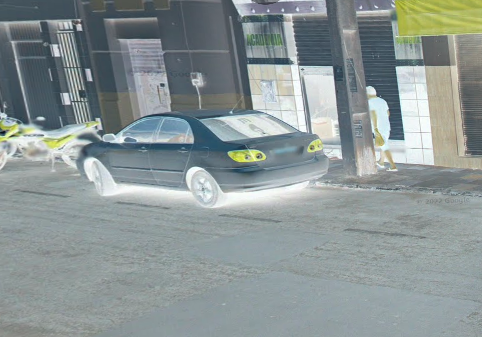car: (74, 93, 332, 211)
